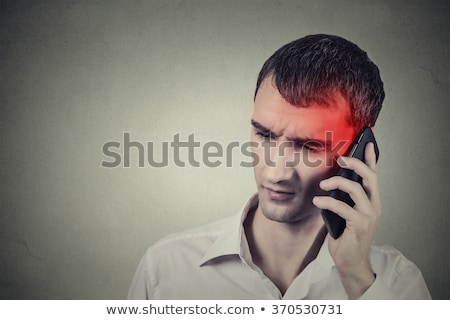phone: (323, 121, 377, 233)
talk: (250, 108, 382, 261)
